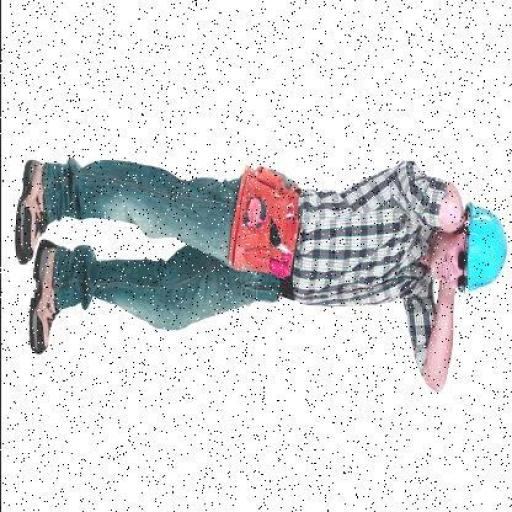person: (9, 128, 508, 401)
safety_shoe: (9, 152, 56, 264), (25, 241, 62, 356)
